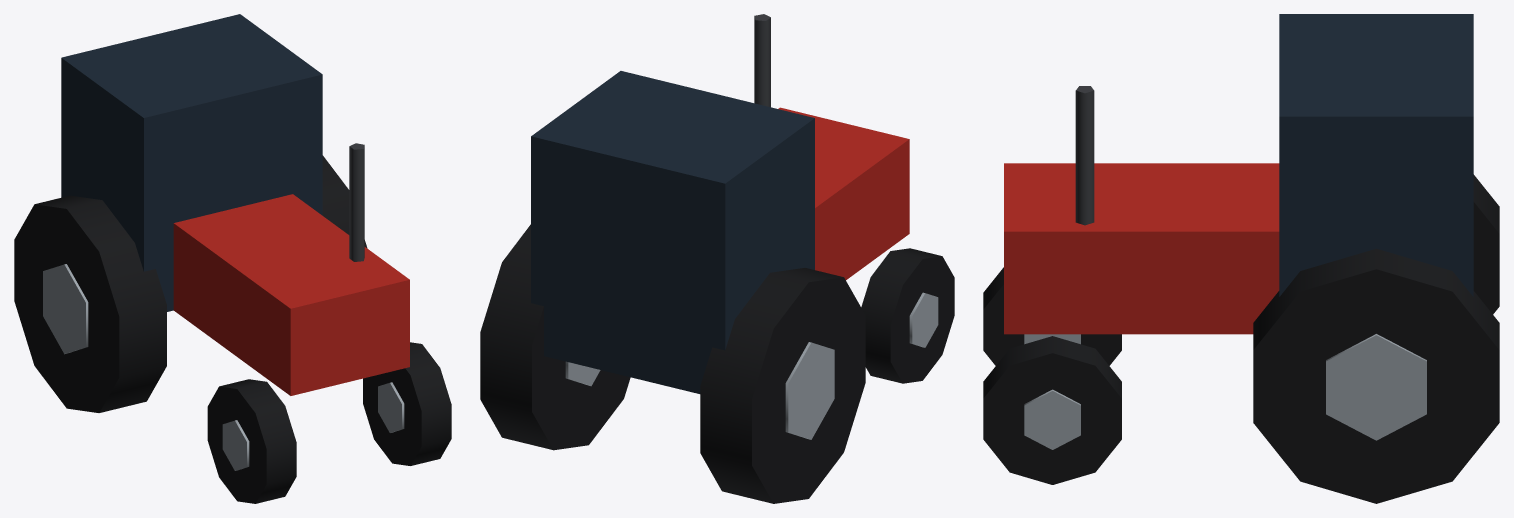
The model's file is veh_ground_tractor_a07.glb.
3 renders of one model, left to right at view 1: azimuth 30°, elevation 25°; view 2: azimuth 150°, elevation 25°; view 3: azimuth 270°, elevation 25°, orthographic. The views are drawn at different scales.
Parts seen in each view (by area): view 1: body, wheel_0, front_wheel_0, front_wheel_1, wheel_1; view 2: body, wheel_0, wheel_1, front_wheel_0; view 3: body, wheel_1, front_wheel_1, front_wheel_0, wheel_0.
Boxes of the visible parts, x1=… form: body: x1=61, y1=14, x2=409, y2=395; wheel_0: x1=14, y1=195, x2=166, y2=412; front_wheel_0: x1=207, y1=379, x2=296, y2=503; front_wheel_1: x1=363, y1=342, x2=451, y2=465; wheel_1: x1=322, y1=155, x2=367, y2=248; body: x1=531, y1=14, x2=909, y2=393; wheel_0: x1=700, y1=268, x2=865, y2=503; wheel_1: x1=480, y1=224, x2=630, y2=450; front_wheel_0: x1=861, y1=248, x2=954, y2=383; body: x1=1004, y1=14, x2=1473, y2=334; wheel_1: x1=1253, y1=248, x2=1499, y2=503; front_wheel_1: x1=983, y1=336, x2=1121, y2=484; front_wheel_0: x1=983, y1=267, x2=1121, y2=365; wheel_0: x1=1473, y1=174, x2=1499, y2=314.
Size of what is drawn, in the model's own units: 2.14 by 2.5 by 3.19.
